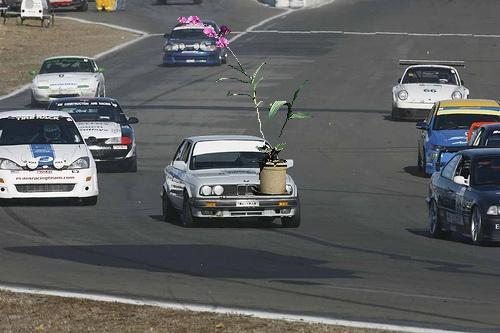tampered: (178, 17, 314, 195)
